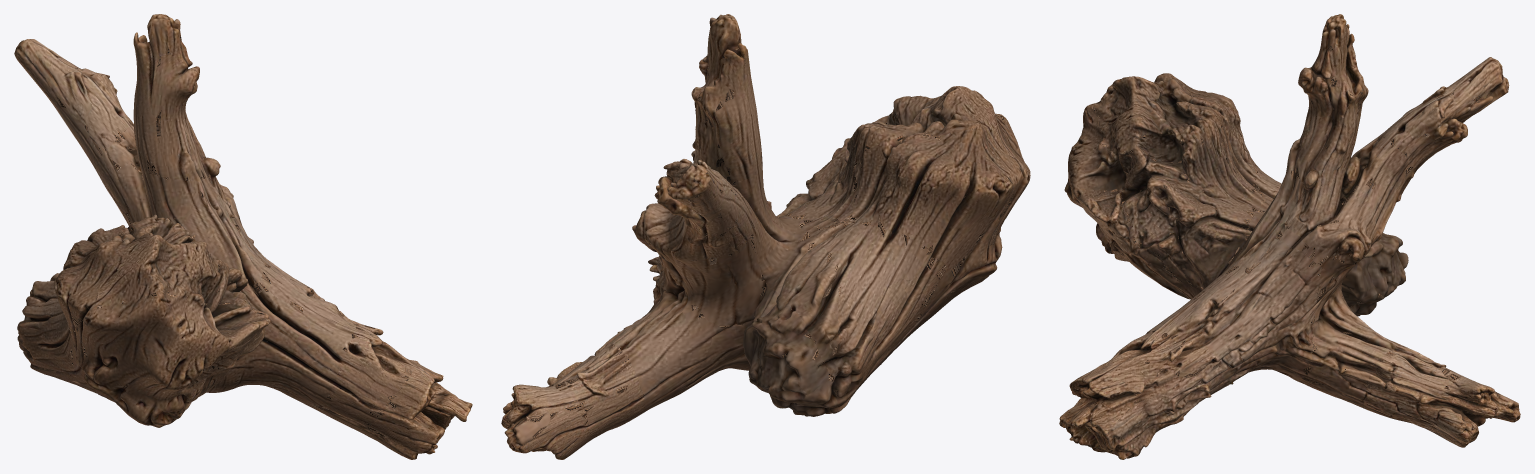
File: branch.glb
3 renders of one model, left to right at view 1: azimuth 30°, elevation 25°; view 2: azimuth 150°, elevation 25°; view 3: azimuth 270°, elevation 25°, orthographic. The views are drawn at different scales.
Visible parts, largest first — view 1: tripo_node_006d9a4f-5b2e-4767-ab4e-11923c6798de; view 2: tripo_node_006d9a4f-5b2e-4767-ab4e-11923c6798de; view 3: tripo_node_006d9a4f-5b2e-4767-ab4e-11923c6798de.
Boxes of the visible parts, <box> form: tripo_node_006d9a4f-5b2e-4767-ab4e-11923c6798de: <box>14,14,472,459</box>; tripo_node_006d9a4f-5b2e-4767-ab4e-11923c6798de: <box>501,14,1030,459</box>; tripo_node_006d9a4f-5b2e-4767-ab4e-11923c6798de: <box>1059,14,1520,459</box>.
Bounding box in the file's own units: 0.8742 × 0.8918 × 0.9918.
1 material, 1 textured.
